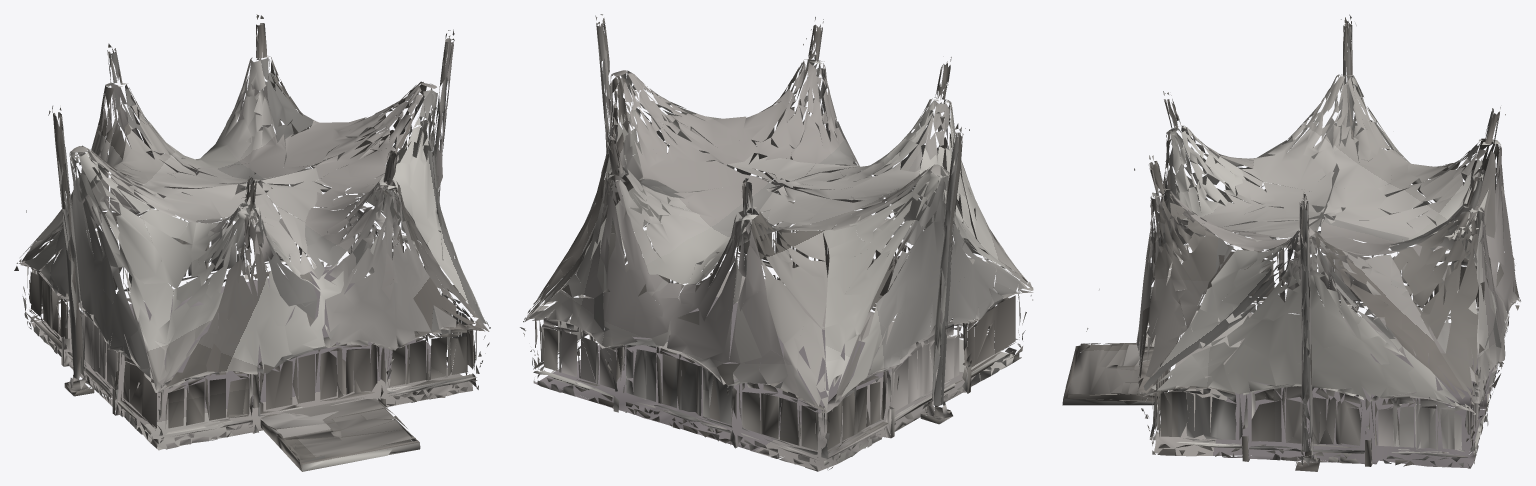
The model's file is bigtent.glb.
3 renders of one model, left to right at view 1: azimuth 30°, elevation 25°; view 2: azimuth 150°, elevation 25°; view 3: azimuth 270°, elevation 25°, orthographic. The views are drawn at different scales.
Parts seen in each view (by area): view 1: LO.001; view 2: LO.001; view 3: LO.001.
Part boxes in pixels (x1,y1,x2,y2): LO.001: (14, 14, 490, 471); LO.001: (520, 14, 1033, 471); LO.001: (1062, 14, 1520, 471).
Bounding box in the file's own units: 1.71 × 1.26 × 1.82.
Materials: 1 (1 with a texture image).
